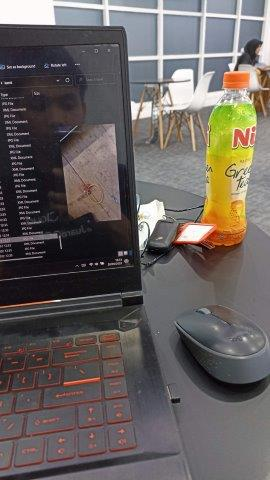botolplastik: (200, 72, 256, 245)
